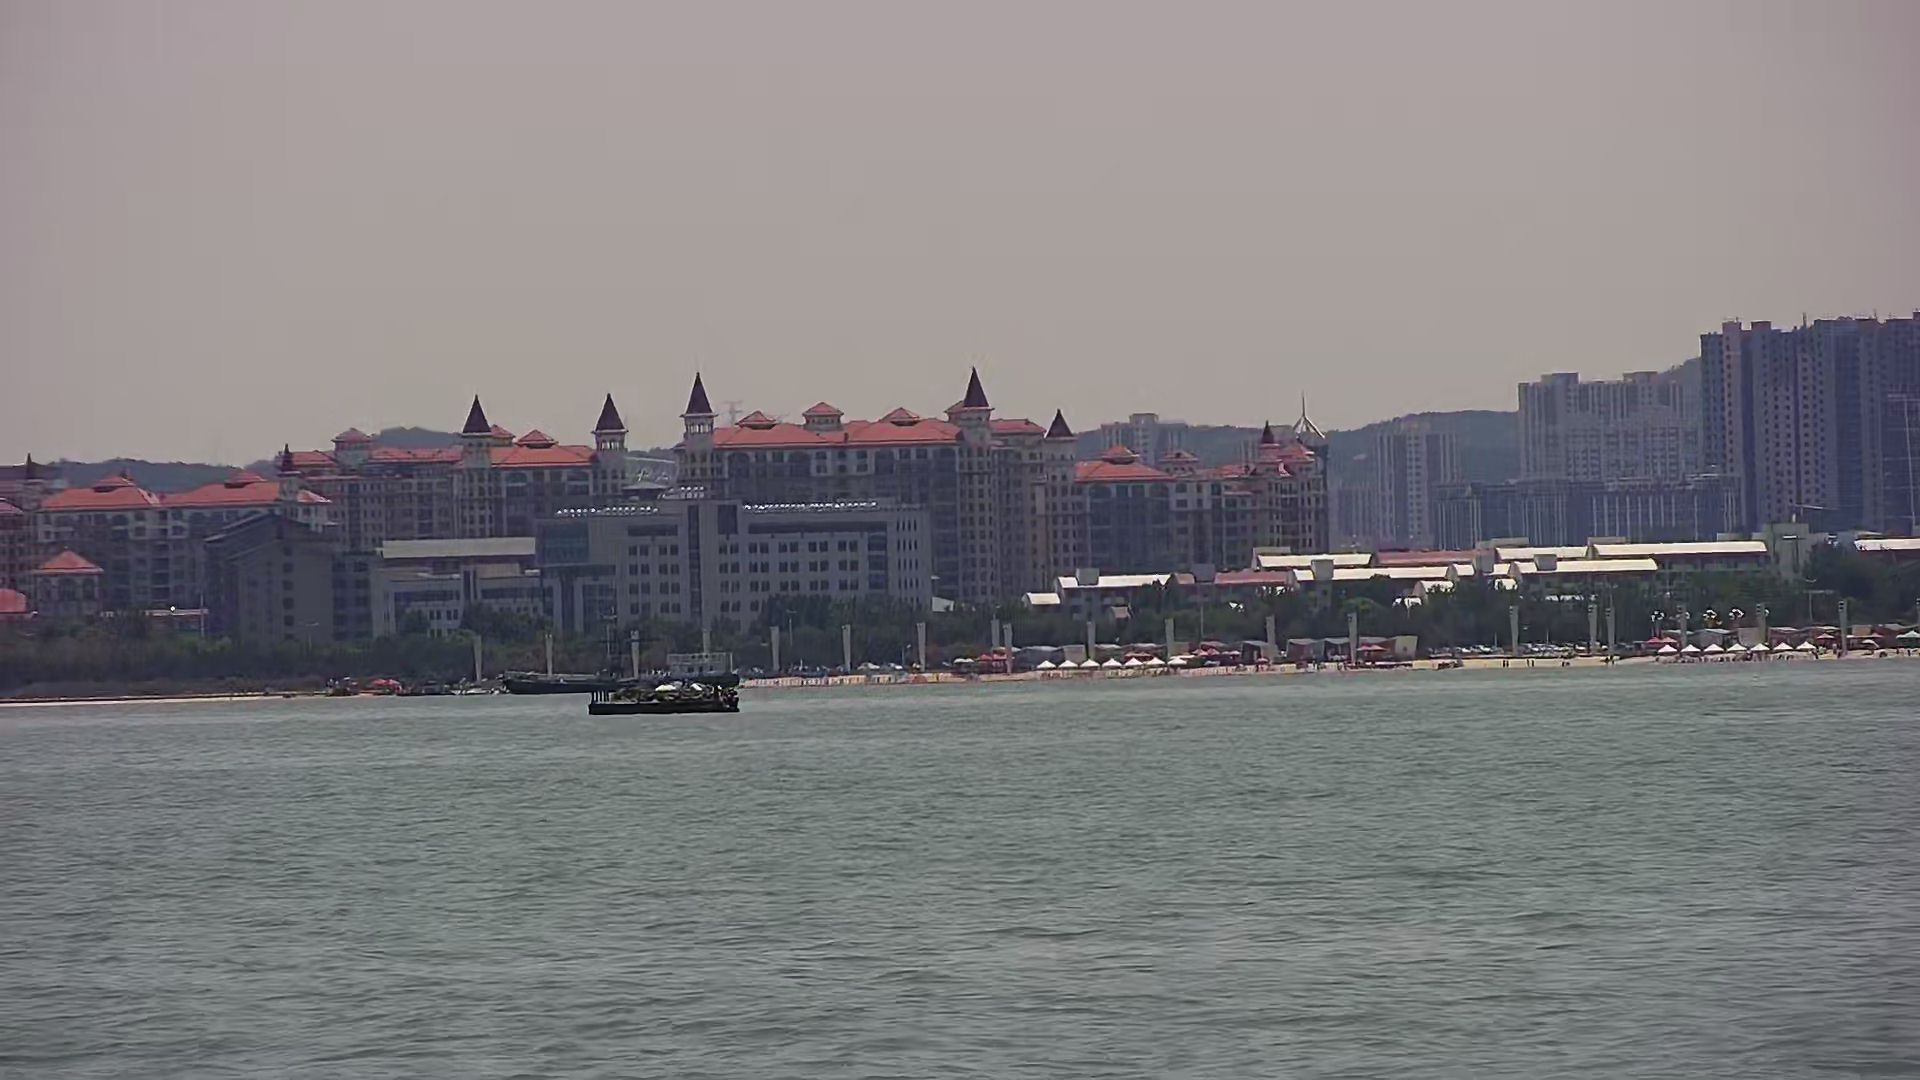platform: (587, 678, 754, 717)
